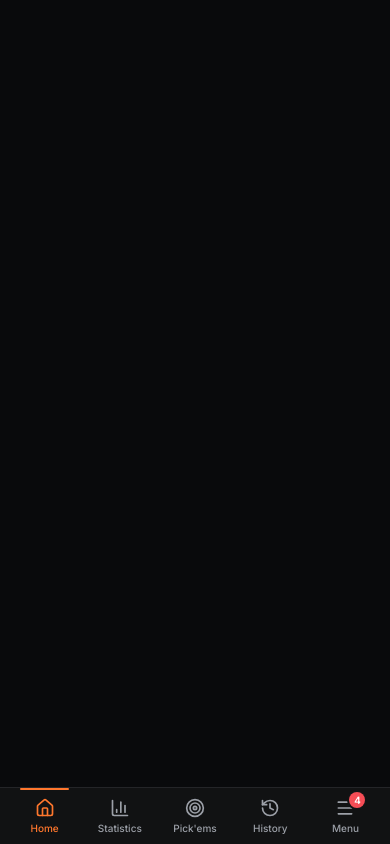
Test: MobileTabBar › shows the account, Settings and the newsletter for a member
Click the button "4 Menu": (345, 816) 309,788 -> 382,843
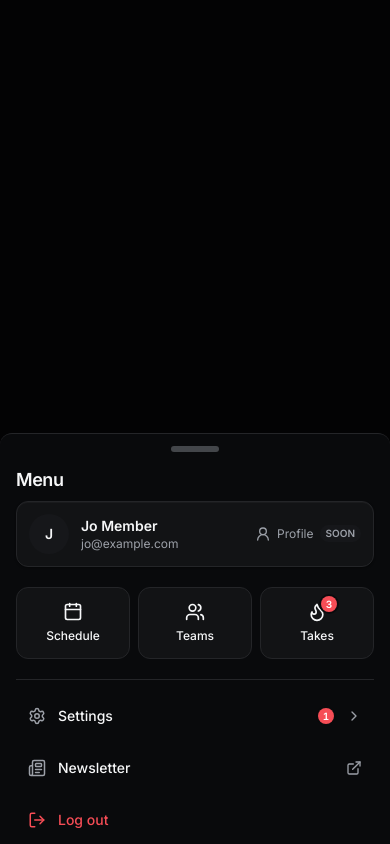
Now the text "Jo Member" is shown, box 81,517 -> 158,534
Now the text "Soon" is shown, box 320,525 -> 361,543
